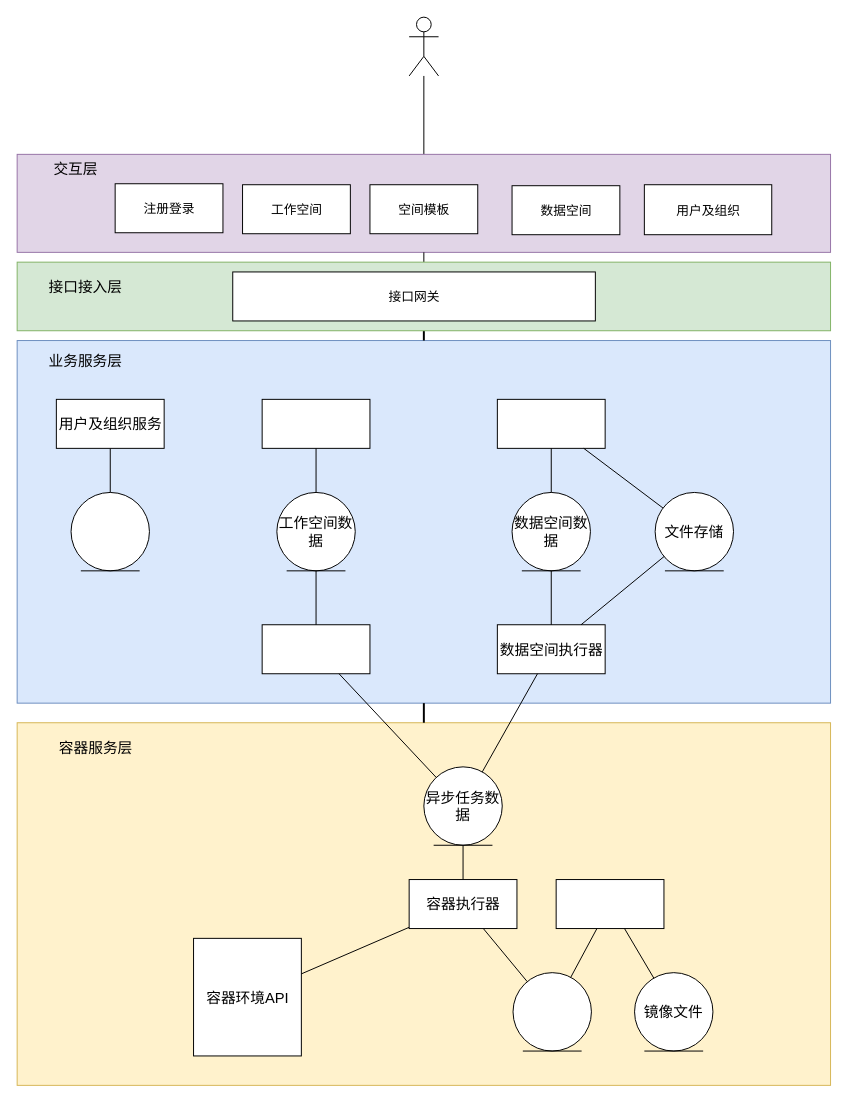
Some shapes in this 848 by 1103 pixel diagram are drawn without their labels. Each missing label, with the centre of its shape:
容器镜像数据: the point at 551,1011
容器镜像服务: the point at 609,904
工作空间执行器: the point at 315,649
工作空间服务: the point at 315,423
开发者: the point at 423,46
数据空间服务: the point at 550,423
用户组织数据: the point at 109,531
